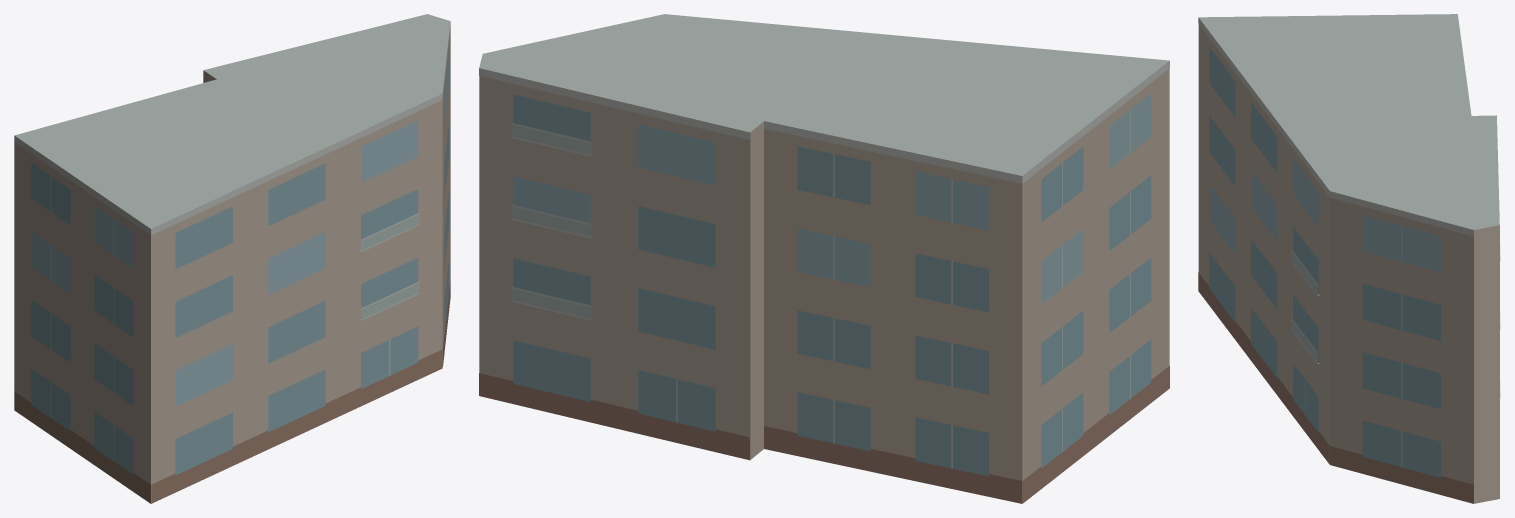
Rendered from survey-upis-33043989.glb.
3 views of the same model, side by side, from view 1: azimuth 30°, elevation 25°; view 2: azimuth 150°, elevation 25°; view 3: azimuth 270°, elevation 25° (orthographic). The views are drawn at different scales.
Parts seen in each view (by area): view 1: survey-upis-33043989.tmp; view 2: survey-upis-33043989.tmp; view 3: survey-upis-33043989.tmp.
Part boxes in pixels (x1,y1,x2,y2): survey-upis-33043989.tmp: (14,14,450,503); survey-upis-33043989.tmp: (479,14,1169,503); survey-upis-33043989.tmp: (1198,14,1500,503).
Bounding box in the file's own units: 17.61 × 10.4 × 10.41.
